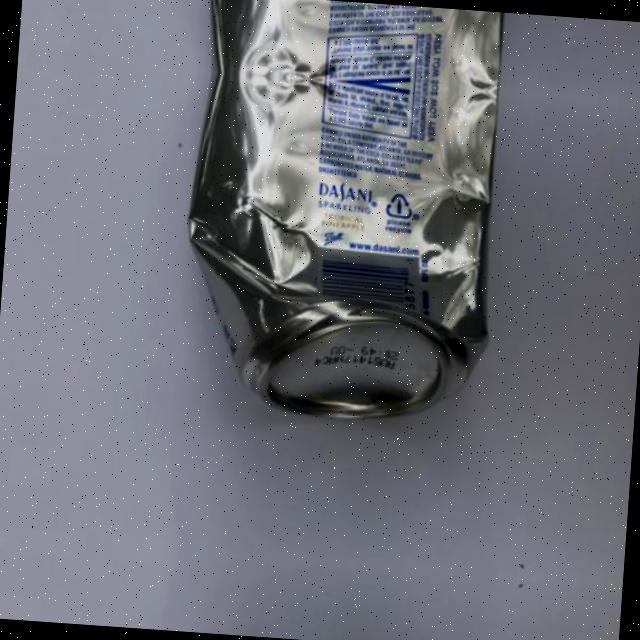Metal: (68, 62, 558, 458), (92, 0, 563, 95)
